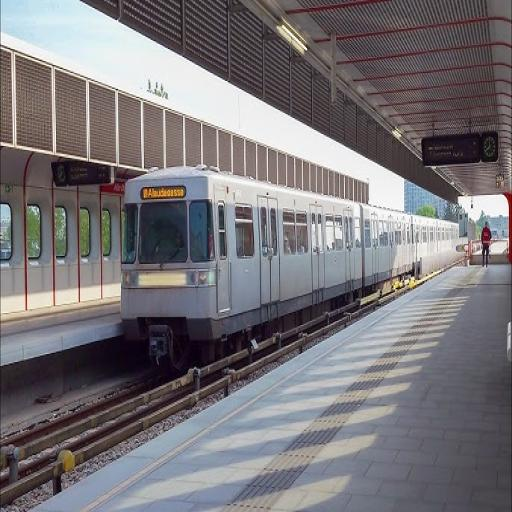Silberpfeil: (119, 162, 460, 334)
